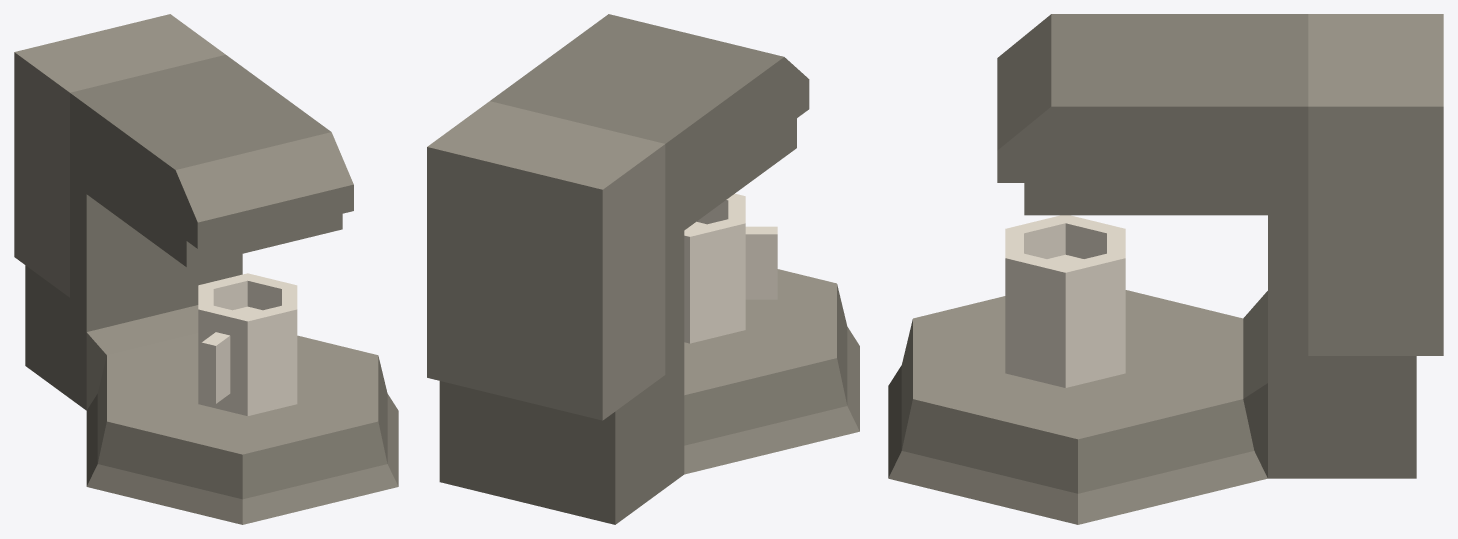
Rendered from kitchenCoffeeMachine.glb.
The picture shows the model from 3 angles, left to right: view 1: azimuth 30°, elevation 25°; view 2: azimuth 150°, elevation 25°; view 3: azimuth 270°, elevation 25°; orthographic projection. The views are drawn at different scales.
Visible parts, largest first — view 1: Mesh_kitchenCoffeeMachine, Mesh_kitchenCoffeeMachine_1, mug; view 2: Mesh_kitchenCoffeeMachine, Mesh_kitchenCoffeeMachine_1, mug; view 3: Mesh_kitchenCoffeeMachine, Mesh_kitchenCoffeeMachine_1, mug.
Part boxes in pixels (left/top/right/bottom): Mesh_kitchenCoffeeMachine: left=25, top=54, right=398, bottom=524; Mesh_kitchenCoffeeMachine_1: left=14, top=14, right=378, bottom=454; mug: left=198, top=273, right=297, bottom=416; Mesh_kitchenCoffeeMachine: left=439, top=14, right=859, bottom=524; Mesh_kitchenCoffeeMachine_1: left=427, top=101, right=836, bottom=420; mug: left=684, top=193, right=777, bottom=343; Mesh_kitchenCoffeeMachine: left=888, top=14, right=1416, bottom=524; Mesh_kitchenCoffeeMachine_1: left=913, top=14, right=1443, bottom=439; mug: left=1005, top=215, right=1125, bottom=387.
Bounding box in the file's own units: 0.3791 × 0.355 × 0.4803.
